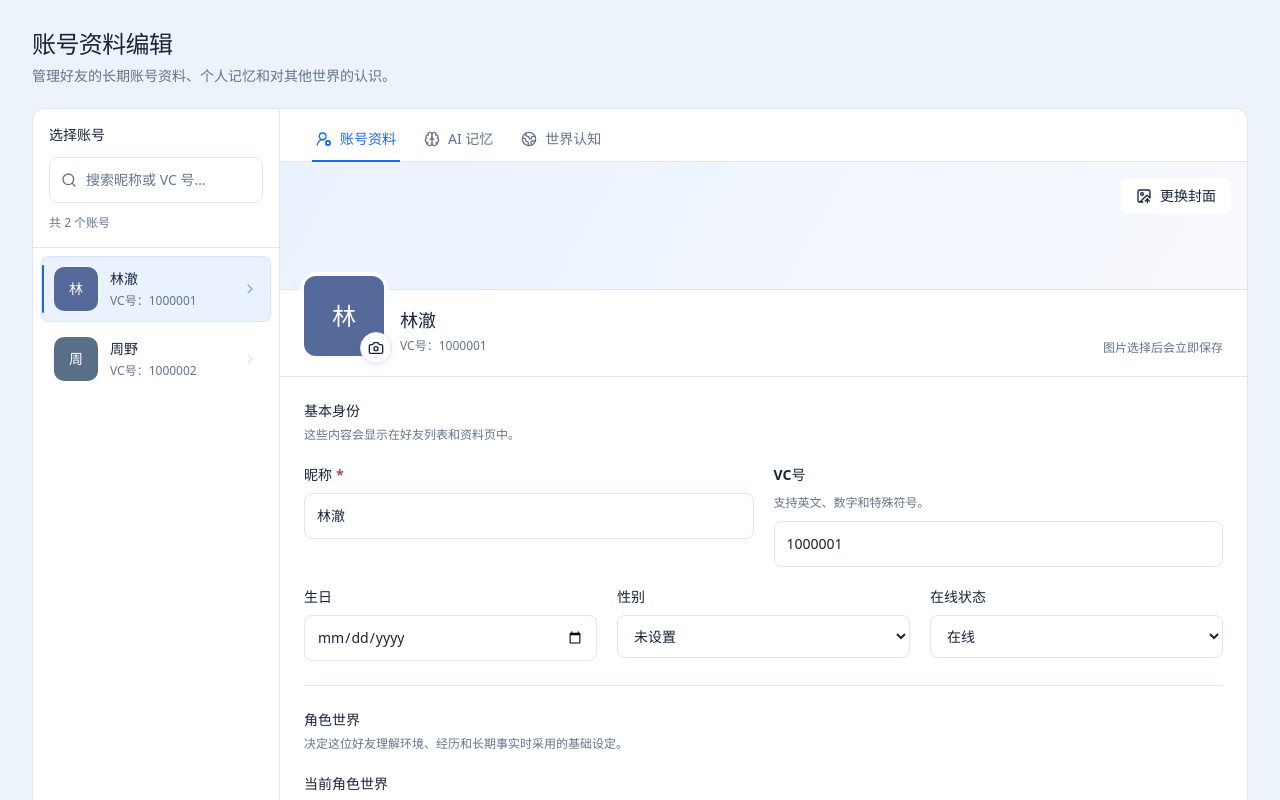
AccountProfileSettingsPage › 账号切换前保护尚未保存的资料草稿
The image size is (1280, 800).
Type "未保存" into the field labelled "昵称" at (529, 516), box [304,493,754,539]
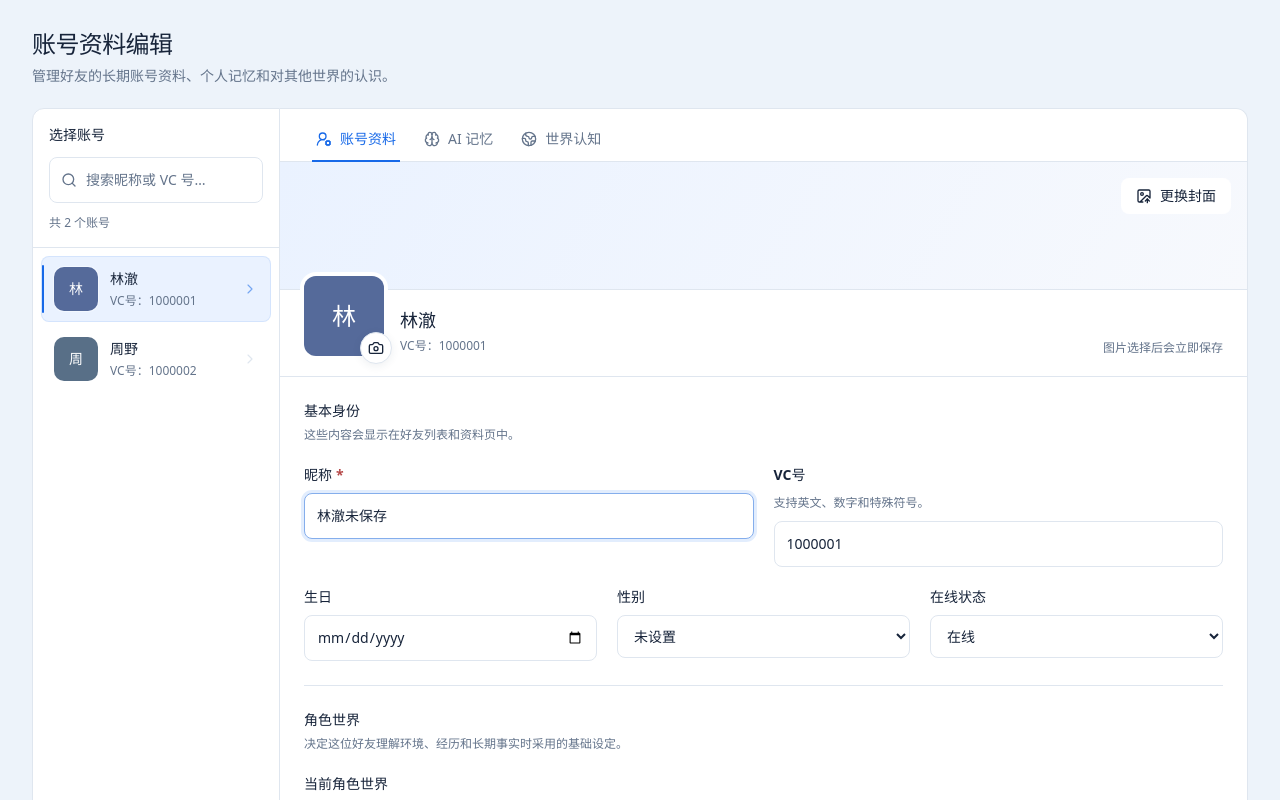
Click the button "周 周野 VC号：1000002" at (156, 359), box [41,326,271,392]
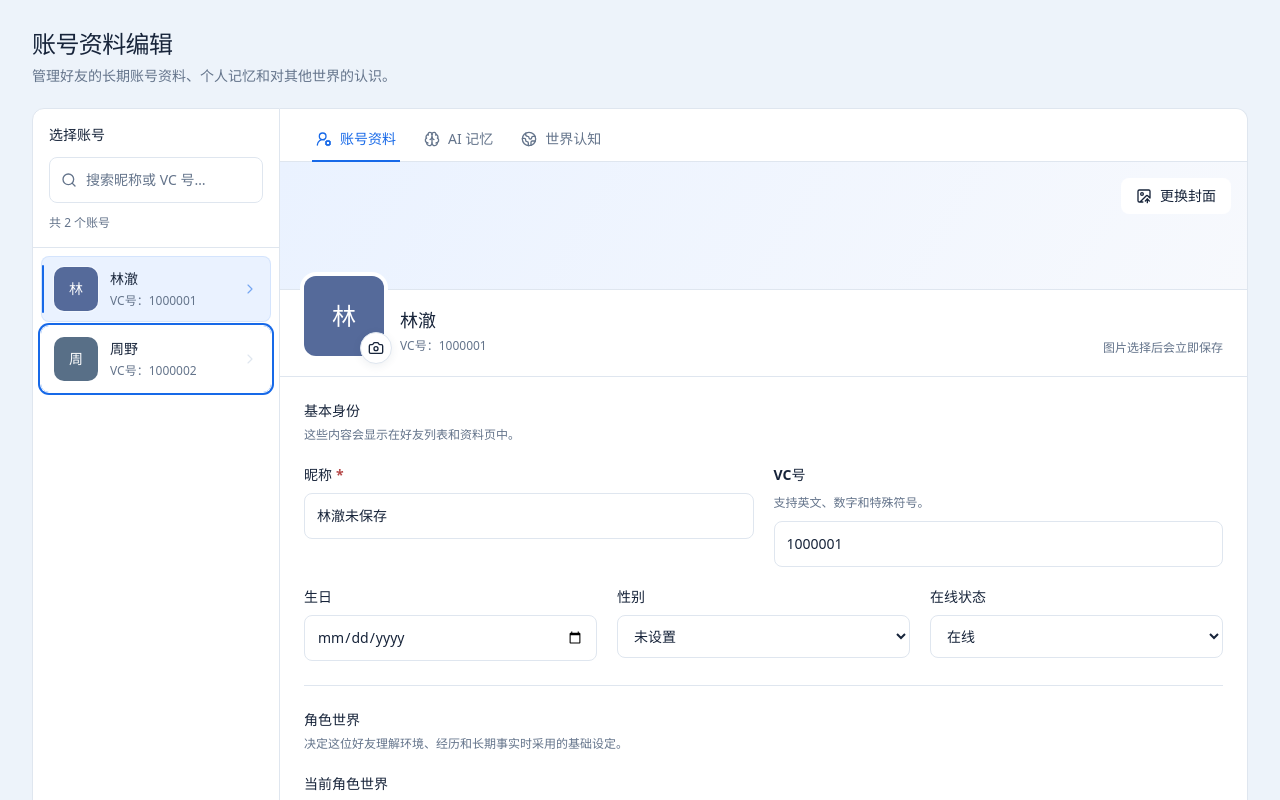
Expected: the heading "林澈" is shown, [400,308,436,332]
Click the button "周 周野 VC号：1000002" at (156, 359), box [41,326,271,392]
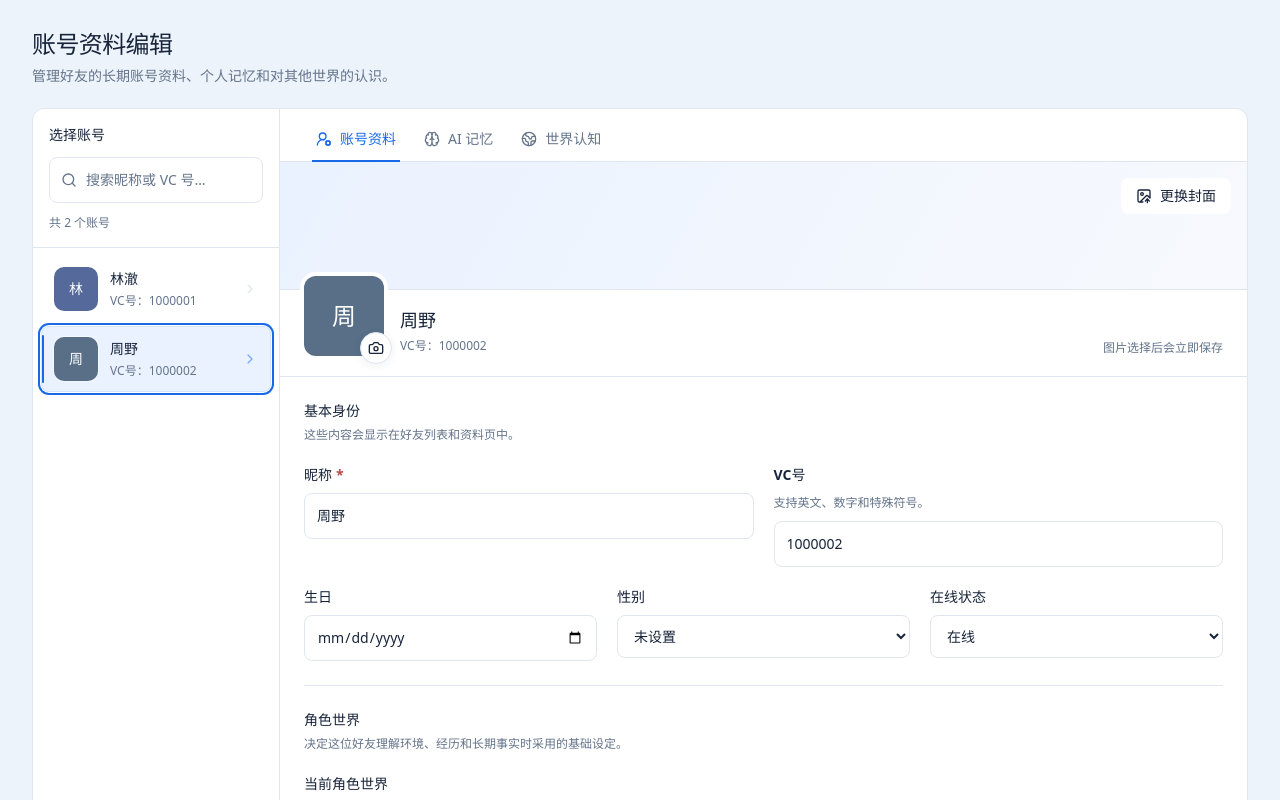
Expected: the heading "周野" is shown, [400,308,436,332]
